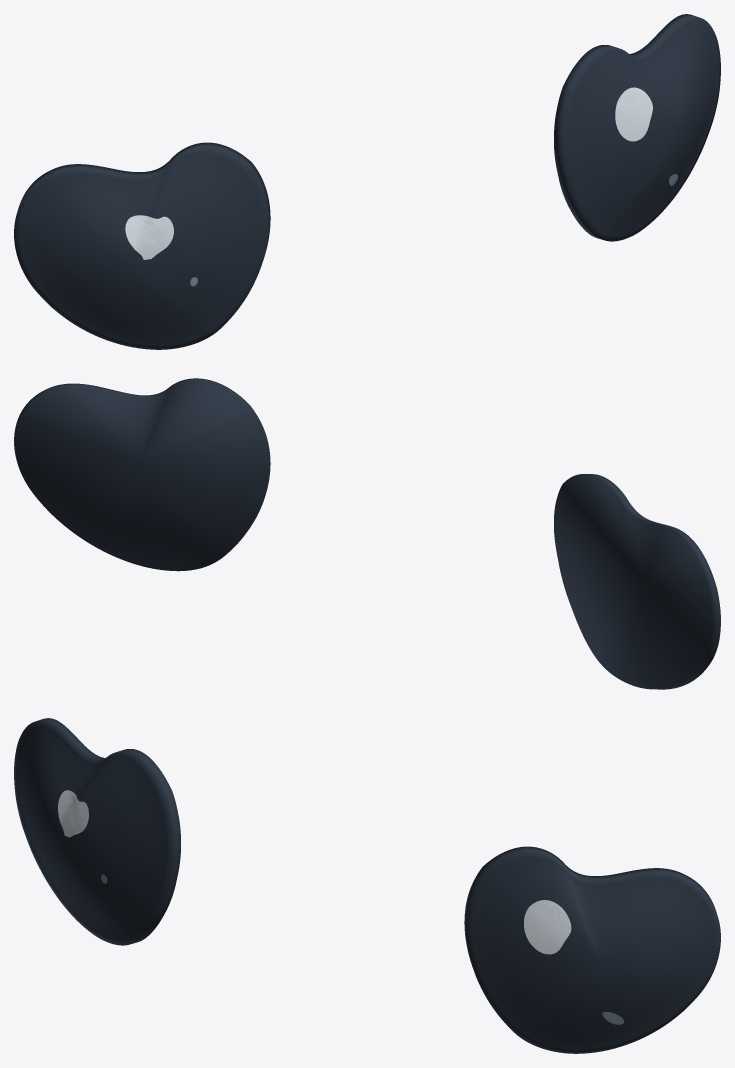
File: masculine-222-eyes.glb
3 views of the same model, one above another, from view 1: azimuth 30°, elevation 25°; view 2: azimuth 150°, elevation 25°; view 3: azimuth 330°, elevation 25° (orthographic).
Parts seen in each view (by area): view 1: 226 eyes / Eye / smoky charcoal181, 226 eyes / Eye highlight181; view 2: 226 eyes / Eye / smoky charcoal181; view 3: 226 eyes / Eye / smoky charcoal181, 226 eyes / Eye highlight181.
Boxes of the visible parts, <box> form: 226 eyes / Eye / smoky charcoal181: <box>14,14,720,349</box>; 226 eyes / Eye highlight181: <box>125,87,652,259</box>; 226 eyes / Eye / smoky charcoal181: <box>14,378,720,689</box>; 226 eyes / Eye / smoky charcoal181: <box>14,718,720,1053</box>; 226 eyes / Eye highlight181: <box>58,790,571,954</box>.
Size of the model in its own units: 0.4072 by 0.1084 by 0.0524.
